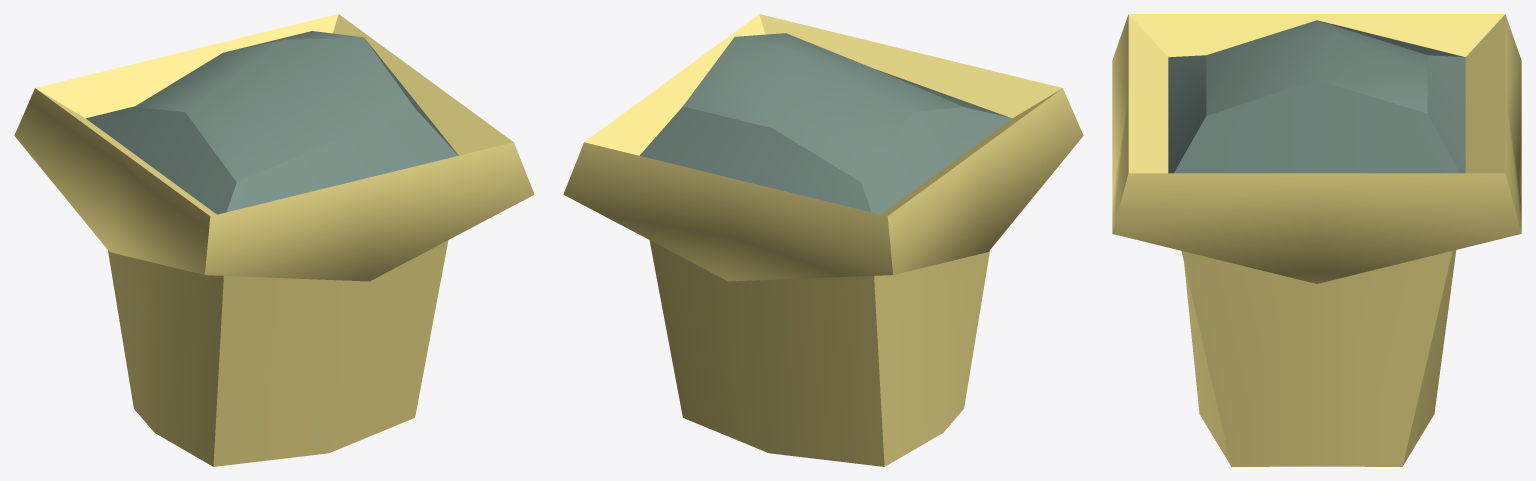
The model's file is Fertilizer_Green.fbx.
The picture shows the model from 3 angles, left to right: view 1: azimuth 30°, elevation 25°; view 2: azimuth 150°, elevation 25°; view 3: azimuth 270°, elevation 25°; orthographic projection. The views are drawn at different scales.
Parts seen in each view (by area): view 1: Fertilizer_Green; view 2: Fertilizer_Green; view 3: Fertilizer_Green.
Boxes of the visible parts, box(x1,y1,x2,y2) form: Fertilizer_Green: box(14, 14, 534, 466); Fertilizer_Green: box(563, 14, 1083, 466); Fertilizer_Green: box(1112, 14, 1521, 466).
Bounding box in the file's own units: 3.34 × 3.51 × 3.34.
